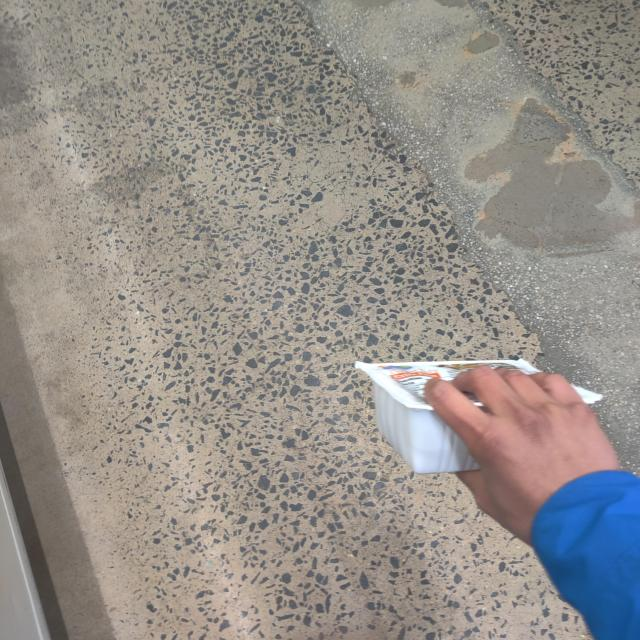Tofu: (342, 348, 612, 488)
